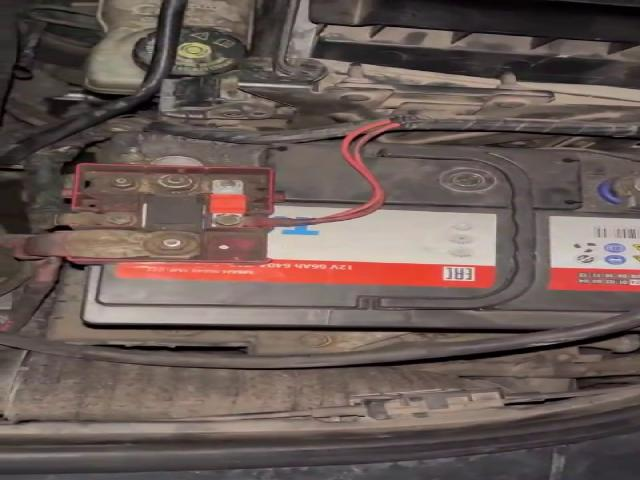accumulator: (25, 123, 639, 332)
